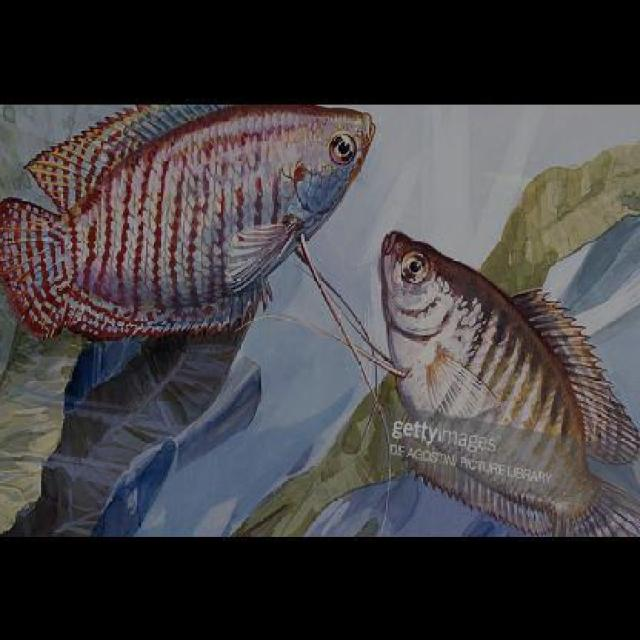Gourami: (0, 102, 377, 336), (377, 228, 638, 534)
